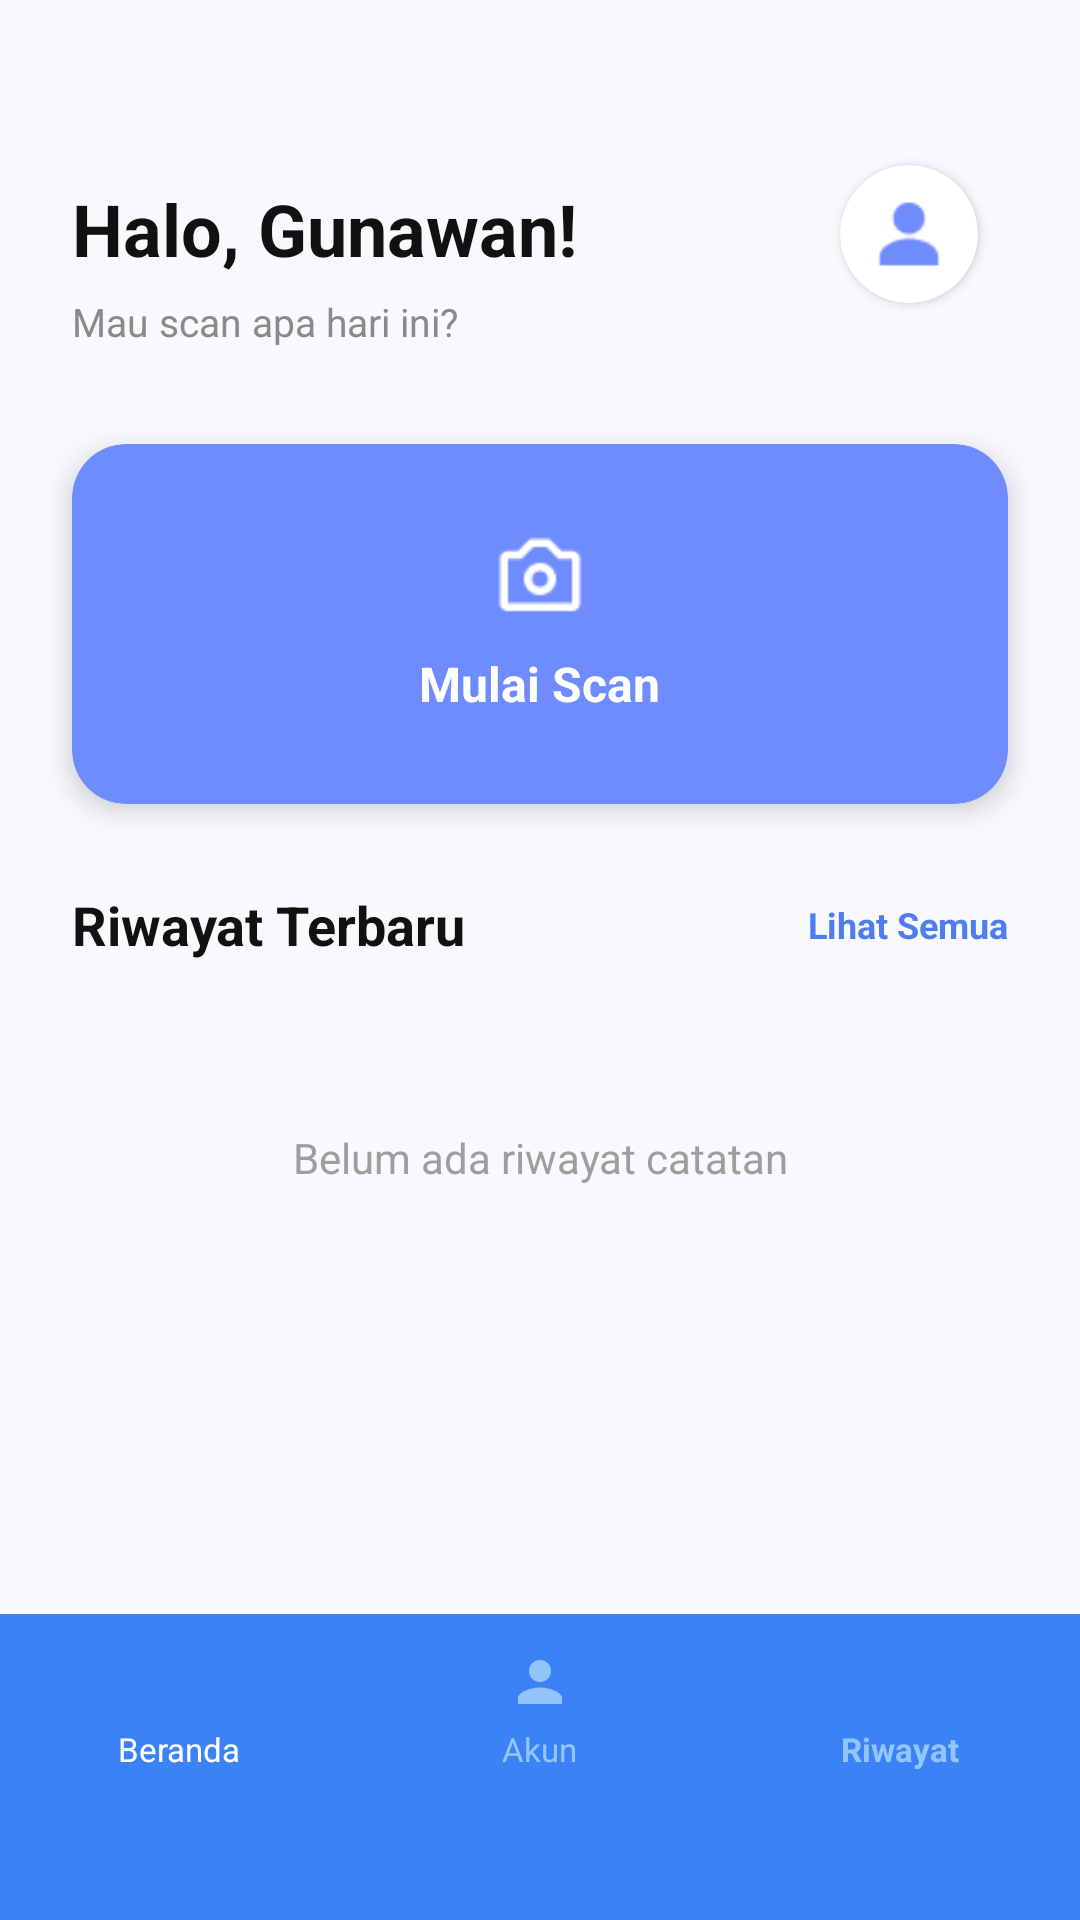

Named icons in this screenshot (1080w x 1920h) and their centers, [x,y]:
camera: [540,574]
